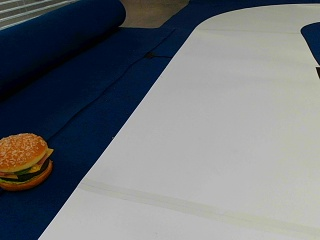burger: (0, 131, 53, 190)
